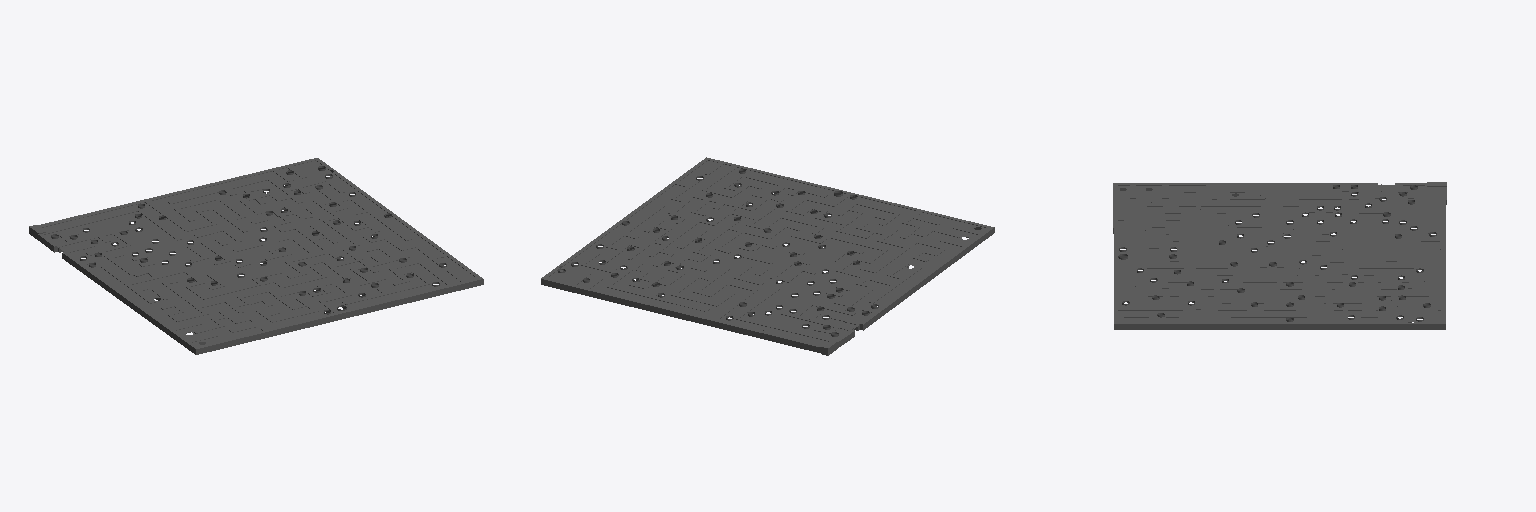
File: boardTop.obj
3 views of the same model, side by side, from view 1: azimuth 30°, elevation 25°; view 2: azimuth 150°, elevation 25°; view 3: azimuth 270°, elevation 25° (orthographic).
Visible parts, largest first — view 1: Sweep.000_Sweep.002; view 2: Sweep.000_Sweep.002; view 3: Sweep.000_Sweep.002.
Boxes of the visible parts, <box> form: Sweep.000_Sweep.002: <box>29,158,483,354</box>; Sweep.000_Sweep.002: <box>541,157,994,355</box>; Sweep.000_Sweep.002: <box>1113,182,1446,329</box>.
Size of the model in its own units: 20.37 by 0.5295 by 20.34.